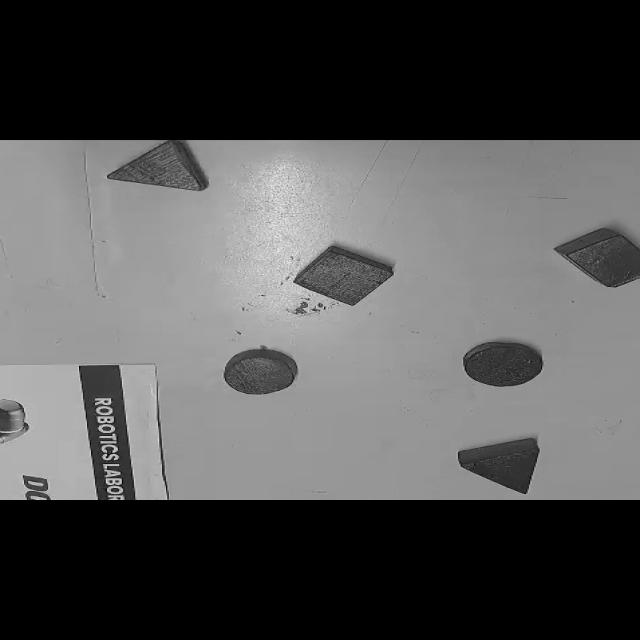bcircle: (460, 340, 545, 388)
bcube: (291, 245, 396, 307)
btriangle: (457, 437, 542, 494)
rcircle: (222, 350, 298, 396)
rcube: (550, 227, 640, 289)
rtriangle: (106, 140, 211, 192)
